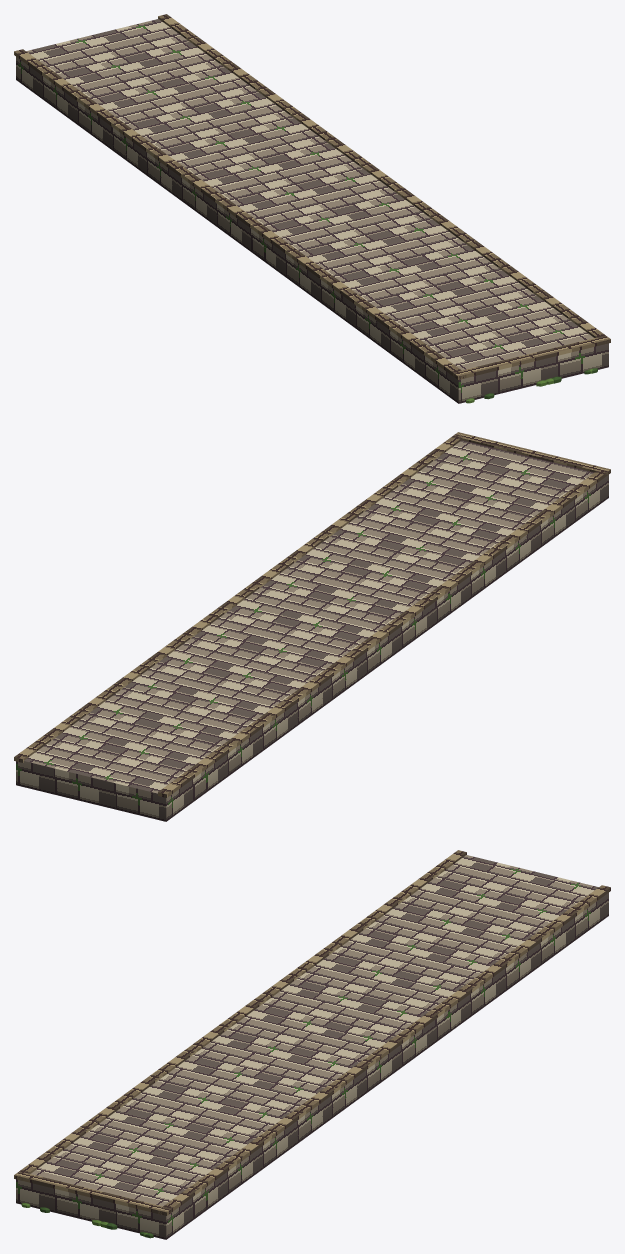
File: scene_cellar_s.glb
3 views of the same model, one above another, from view 1: azimuth 30°, elevation 25°; view 2: azimuth 150°, elevation 25°; view 3: azimuth 330°, elevation 25° (orthographic).
Visible parts, largest first — view 1: scene_cellar_s; view 2: scene_cellar_s; view 3: scene_cellar_s.
Part boxes in pixels (x1,y1,x2,y2): scene_cellar_s: (14, 14, 610, 403); scene_cellar_s: (14, 432, 610, 821); scene_cellar_s: (14, 850, 610, 1239).
Bounding box in the file's own units: 6.1 × 1.16 × 30.83.
Materials: 2 (1 with a texture image).
